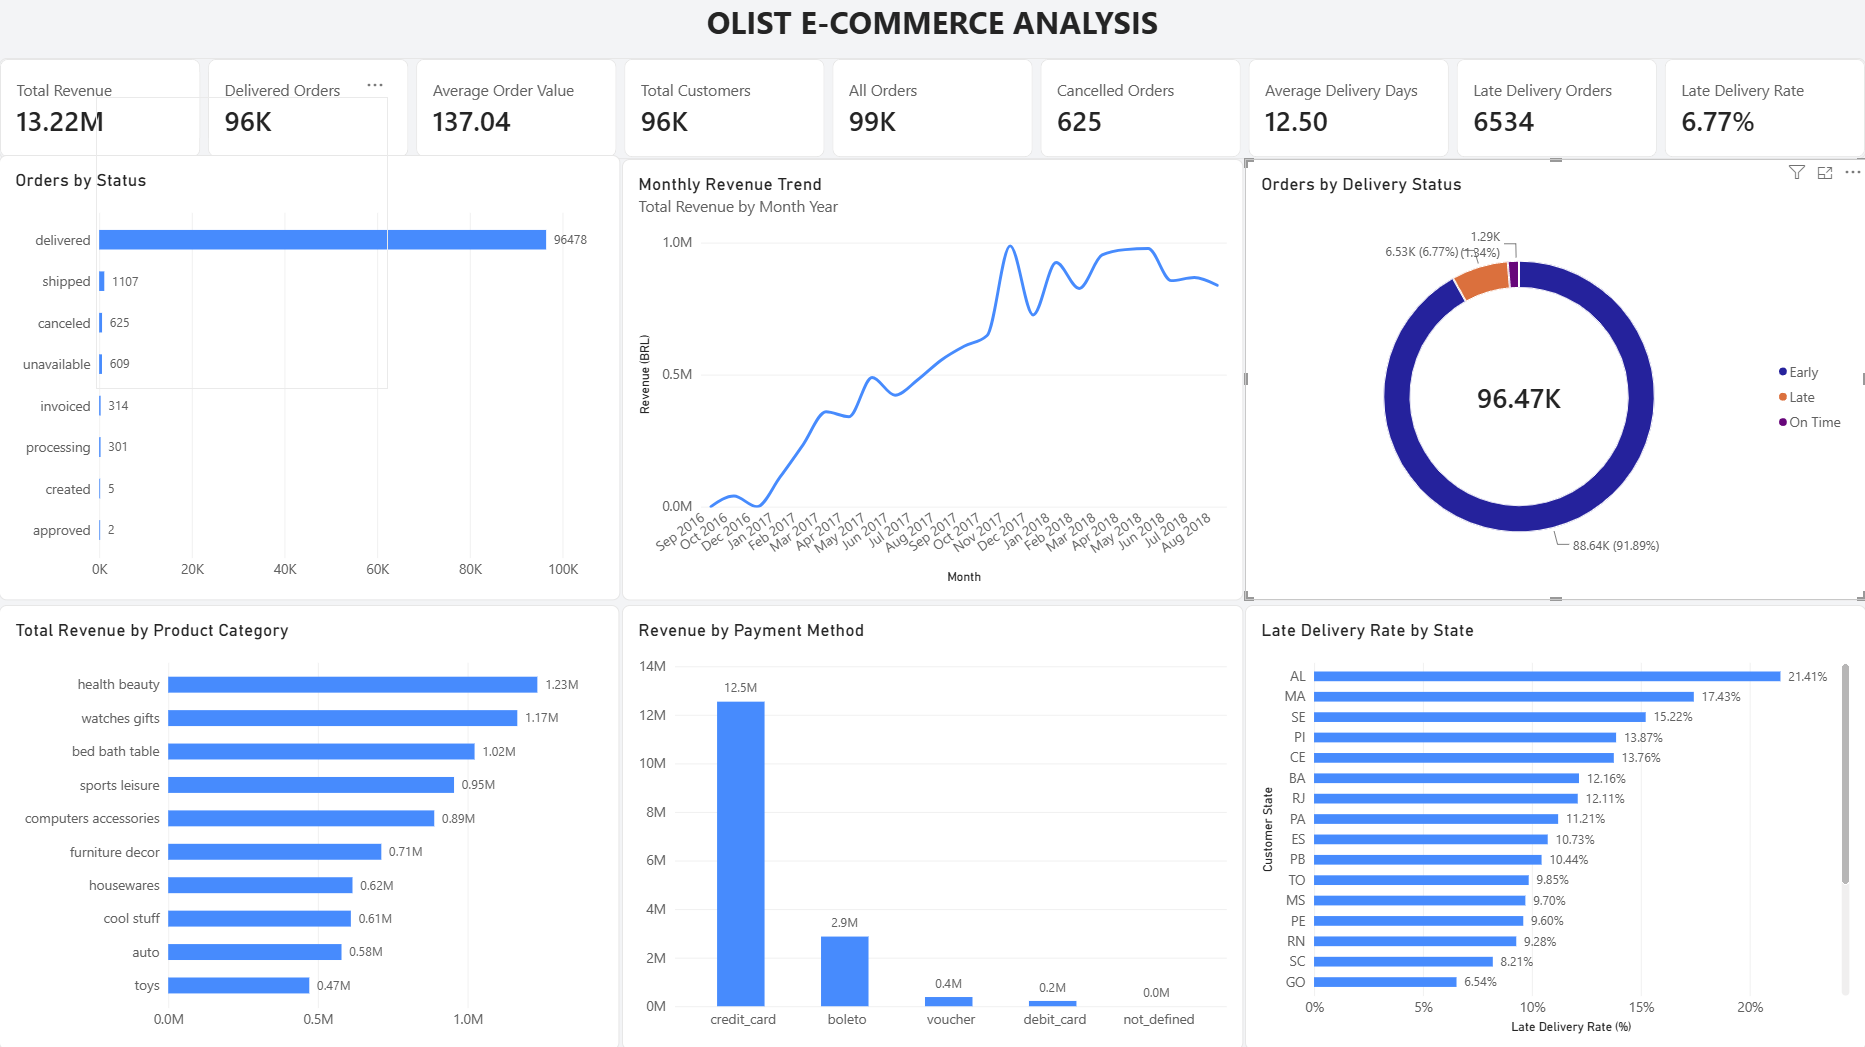

This screenshot's page, from the dashboard's own definition file:
{"tool":"powerbi","page":{"name":"Page 1","canvas":[1920,1080],"ordinal":0},"visuals":[{"type":"cardVisual","fields":{"Data":["olist_ecommerce order_items.Total Revenue","olist_ecommerce orders.Total Orders","olist_ecommerce orders.Average Order Value","olist_ecommerce customers.Total Customers","olist_ecommerce orders.All Orders","olist_ecommerce orders.Cancelled Orders","olist_ecommerce orders.Average Delivery Days","olist_ecommerce orders.Late Delivery Orders","olist_ecommerce orders.Late Delivery Rate"]},"box":[0,59.6,1920,103.9],"z":0},{"type":"clusteredBarChart","title":"Orders by Status","fields":{"Category":["olist_ecommerce orders.order_status"],"Y":["CountNonNull(olist_ecommerce orders.order_id)"]},"box":[0,159.4,638.6,458],"z":1000},{"type":"lineChart","title":"Monthly Revenue Trend","fields":{"Category":["olist_ecommerce orders.Month Year"],"Y":["olist_ecommerce order_items.Total Revenue"]},"box":[640.7,163.5,638.6,453.5],"z":2000},{"type":"clusteredBarChart","title":"Total Revenue by Product Category","fields":{"Category":["olist_ecommerce category_translation.Category Display Name"],"Y":["olist_ecommerce order_items.Total Revenue"]},"box":[0,622.2,638,458],"z":3000},{"type":"clusteredColumnChart","title":"Revenue by Payment Method","fields":{"Category":["olist_ecommerce payments.payment_type"],"Y":["Sum(olist_ecommerce payments.payment_value)"]},"box":[640.7,622.2,638.6,457.6],"z":4000},{"type":"donutChart","title":"Orders by Delivery Status","fields":{"Category":["olist_ecommerce orders.Delivery Status"],"Y":["CountNonNull(olist_ecommerce orders.order_id)"]},"box":[1281.4,163.5,638.6,453.5],"z":5000},{"type":"clusteredBarChart","title":"Late Delivery Rate by State","fields":{"Category":["olist_ecommerce customers.customer_state"],"Y":["olist_ecommerce orders.Late Delivery Rate"]},"box":[1281.4,622.2,638.6,457.6],"z":8001},{"type":"textbox","box":[100,100,300,300],"z":8002},{"type":"textbox","box":[0,0,1920,67.9],"z":8003}]}

Visuals, with their boxes in screenshot pixels (x1, y1, x2, y2), scaled from the page's 1920x1080 canvas onto the 1865x1047 screenshot:
cardVisual - olist_ecommerce order_items.Total Revenue x olist_ecommerce orders.Total Orders: (x1=0, y1=58, x2=1864, y2=159)
"Orders by Status" clusteredBarChart: (x1=0, y1=155, x2=620, y2=599)
"Monthly Revenue Trend" lineChart: (x1=622, y1=159, x2=1243, y2=598)
"Total Revenue by Product Category" clusteredBarChart: (x1=0, y1=603, x2=620, y2=1046)
"Revenue by Payment Method" clusteredColumnChart: (x1=622, y1=603, x2=1243, y2=1046)
"Orders by Delivery Status" donutChart: (x1=1245, y1=159, x2=1864, y2=598)
"Late Delivery Rate by State" clusteredBarChart: (x1=1245, y1=603, x2=1864, y2=1046)
textbox: (x1=97, y1=97, x2=389, y2=388)
textbox: (x1=0, y1=0, x2=1864, y2=66)
